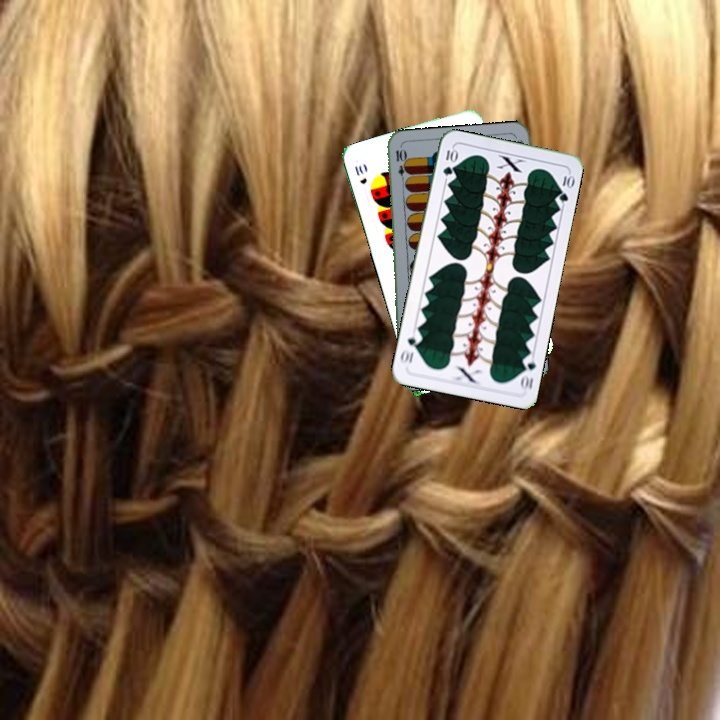E10: (392, 145, 408, 186)
G10: (516, 351, 538, 393), (439, 144, 459, 178)
S10: (351, 161, 369, 187)
